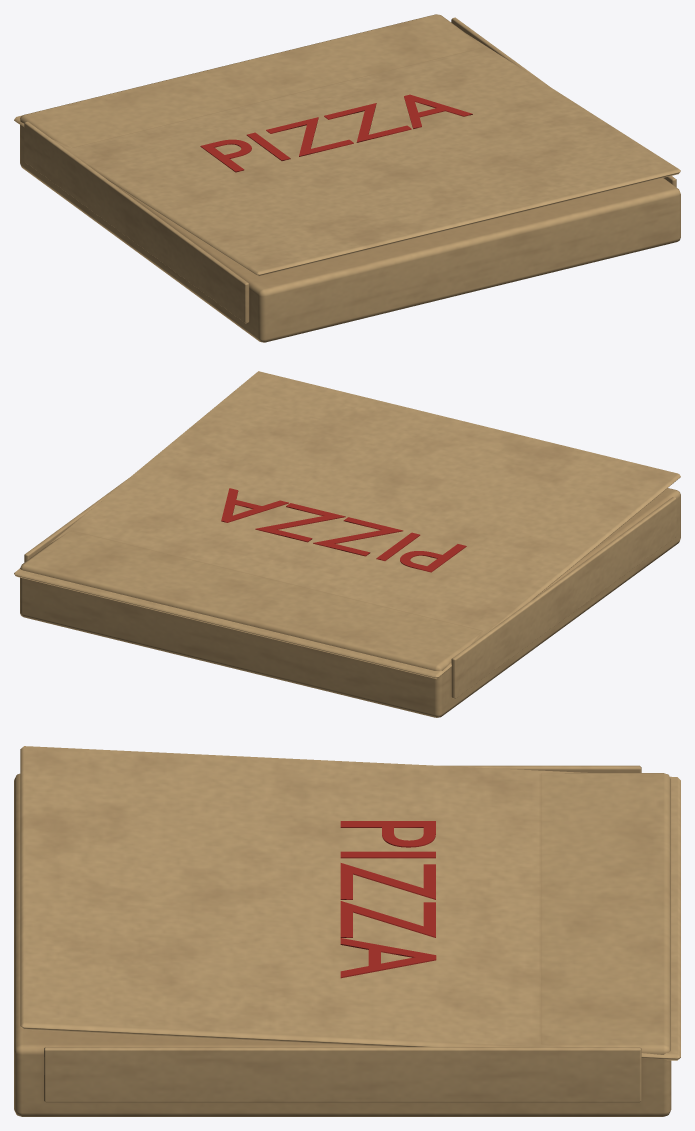
Rendered from dom_pizza.glb.
3 renders of one model, top to bottom at view 1: azimuth 30°, elevation 25°; view 2: azimuth 150°, elevation 25°; view 3: azimuth 270°, elevation 25°, orthographic. The views are drawn at different scales.
Visible parts, largest first — view 1: Pizza, Druk; view 2: Pizza, Druk; view 3: Pizza, Druk.
Part boxes in pixels (x1,y1,x2,y2): Pizza: (14, 14, 680, 342); Druk: (200, 94, 472, 172); Pizza: (14, 371, 680, 717); Druk: (221, 488, 466, 572); Pizza: (14, 746, 680, 1116); Druk: (340, 821, 436, 978).
Size of the model in its own units: 0.338 by 0.0536 by 0.3348.
Materials: 2 (1 with a texture image).
